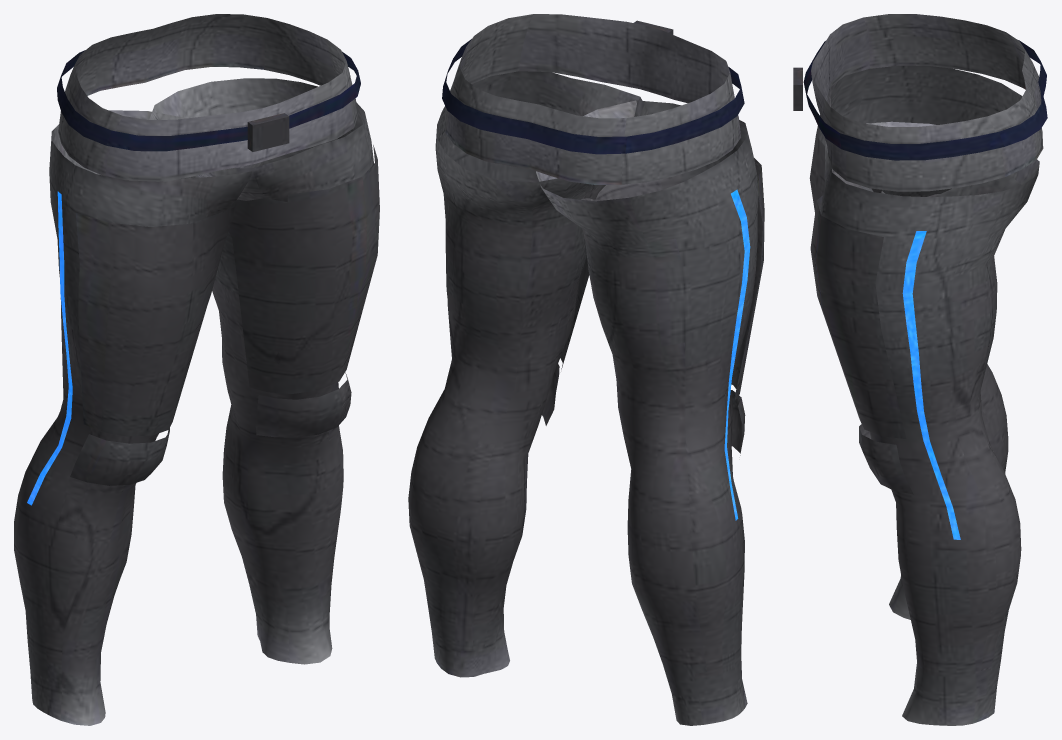
Rendered from Calça_do_Guardião_nivel50.glb.
3 views of the same model, side by side, from view 1: azimuth 30°, elevation 25°; view 2: azimuth 150°, elevation 25°; view 3: azimuth 270°, elevation 25° (orthographic). The views are drawn at different scales.
Visible parts, largest first — view 1: calca_do_guardiao_nivel50; view 2: calca_do_guardiao_nivel50; view 3: calca_do_guardiao_nivel50.
Part boxes in pixels (box(x1,y1,x2,y2)): calca_do_guardiao_nivel50: box(14, 14, 379, 725); calca_do_guardiao_nivel50: box(408, 14, 764, 725); calca_do_guardiao_nivel50: box(793, 14, 1047, 725).
Size of the model in its own units: 0.4438 by 0.8351 by 0.321.
1 material, 1 textured.
